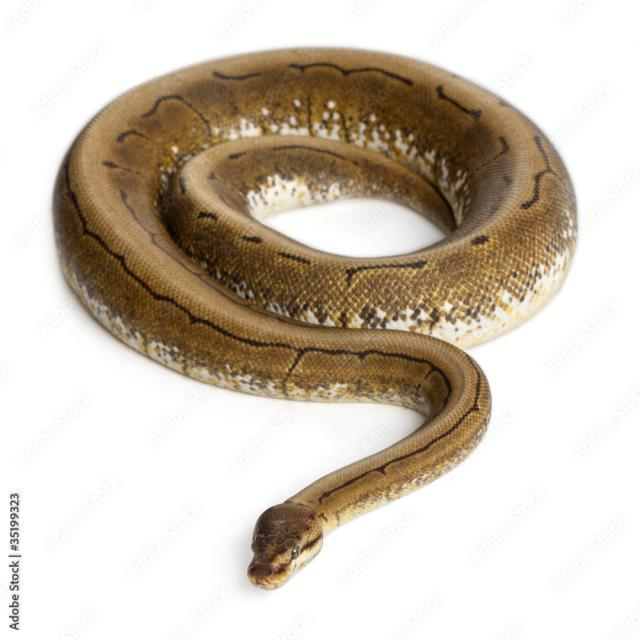Snake: (41, 27, 584, 602)
